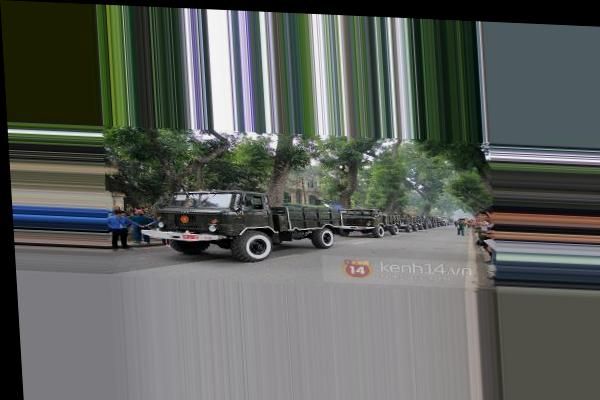License_Plate: (183, 233, 199, 241)
